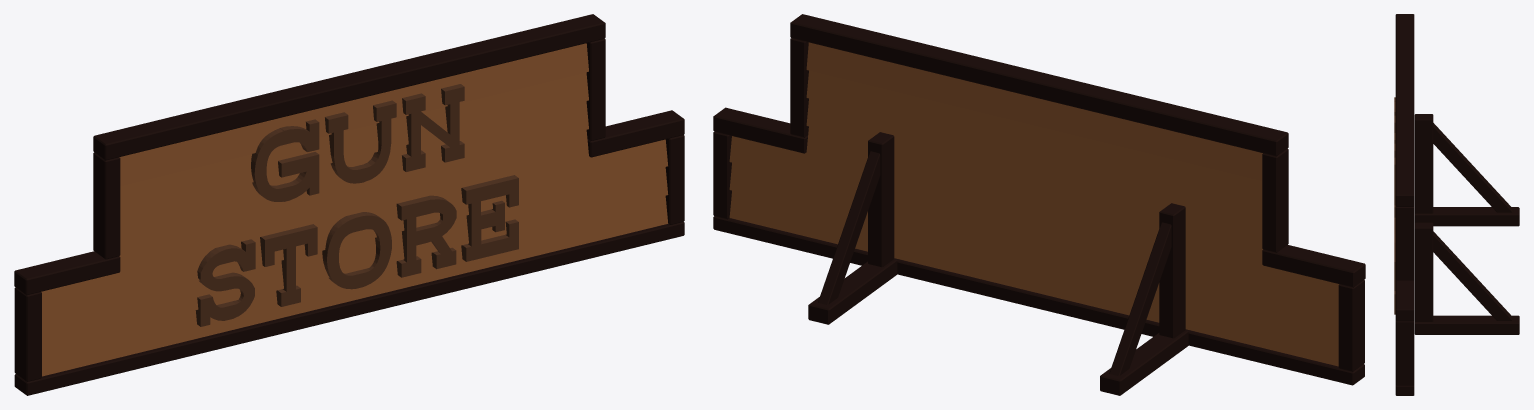
The model's file is ww_gun_sign_c.glb.
3 views of the same model, side by side, from view 1: azimuth 30°, elevation 25°; view 2: azimuth 150°, elevation 25°; view 3: azimuth 270°, elevation 25° (orthographic). The views are drawn at different scales.
Visible parts, largest first — view 1: Guns_Sign_C; view 2: Guns_Sign_C; view 3: Guns_Sign_C.
Boxes of the visible parts, x1,y1,x2,y2 form: Guns_Sign_C: [14, 14, 684, 395]; Guns_Sign_C: [713, 14, 1365, 395]; Guns_Sign_C: [1394, 14, 1519, 395].
Bounding box in the file's own units: 10.56 × 3.56 × 2.34.
